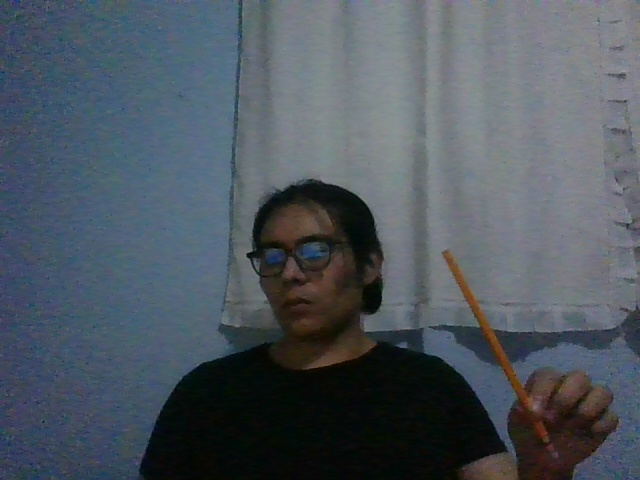lapiz: (441, 248, 560, 460)
